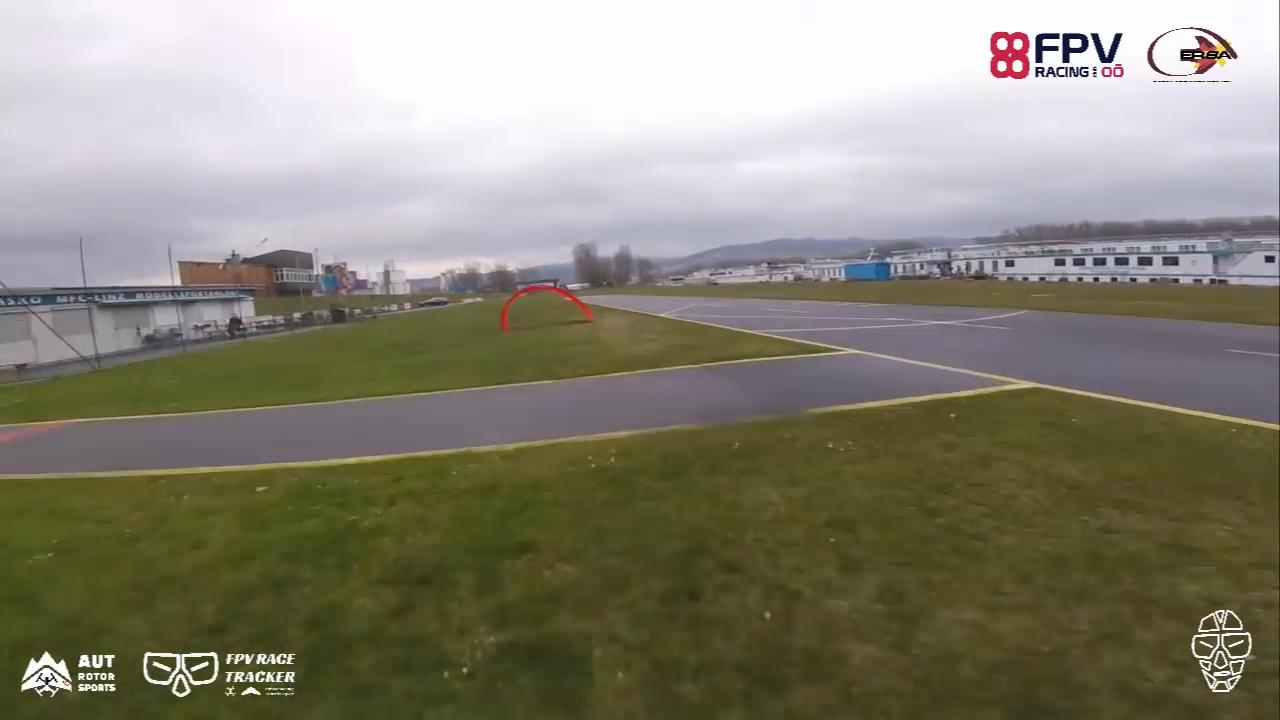gate: (497, 284, 600, 332)
